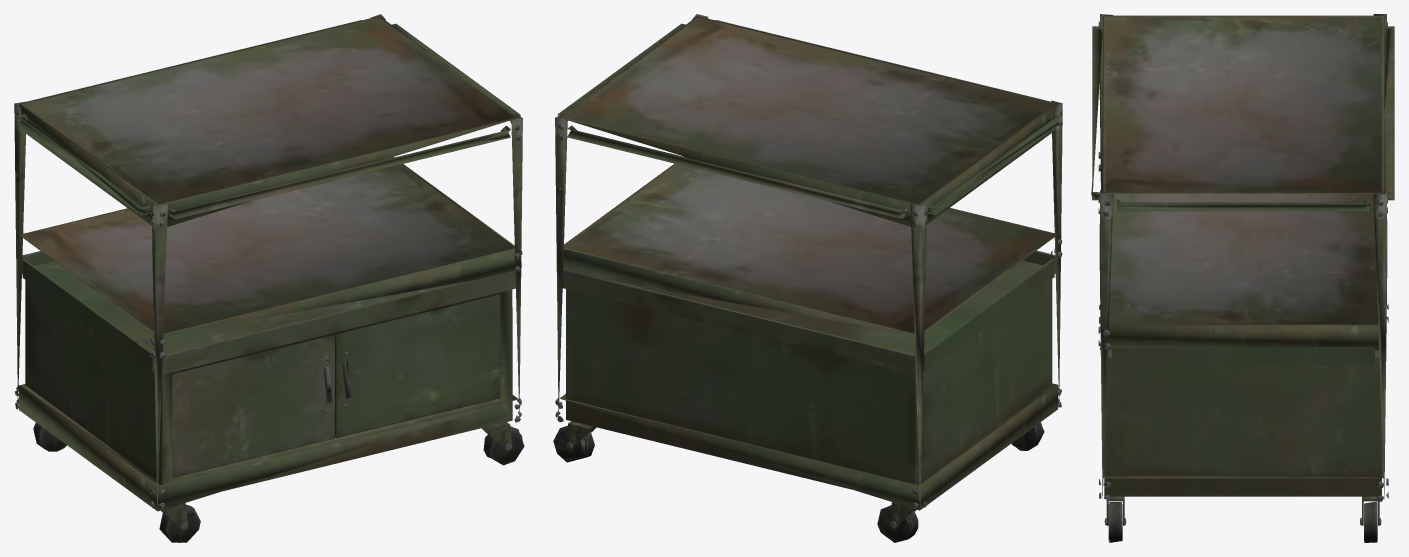
The model's file is scene-cart.glb.
3 views of the same model, side by side, from view 1: azimuth 30°, elevation 25°; view 2: azimuth 150°, elevation 25°; view 3: azimuth 270°, elevation 25° (orthographic).
Visible parts, largest first — view 1: industrial_storage_cart; view 2: industrial_storage_cart; view 3: industrial_storage_cart.
Part boxes in pixels (bbox=[...]): industrial_storage_cart: bbox=[14, 14, 524, 542]; industrial_storage_cart: bbox=[553, 14, 1062, 542]; industrial_storage_cart: bbox=[1091, 14, 1394, 542].
Bounding box in the file's own units: 1.58 × 1.38 × 1.08.
Materials: 1 (1 with a texture image).
